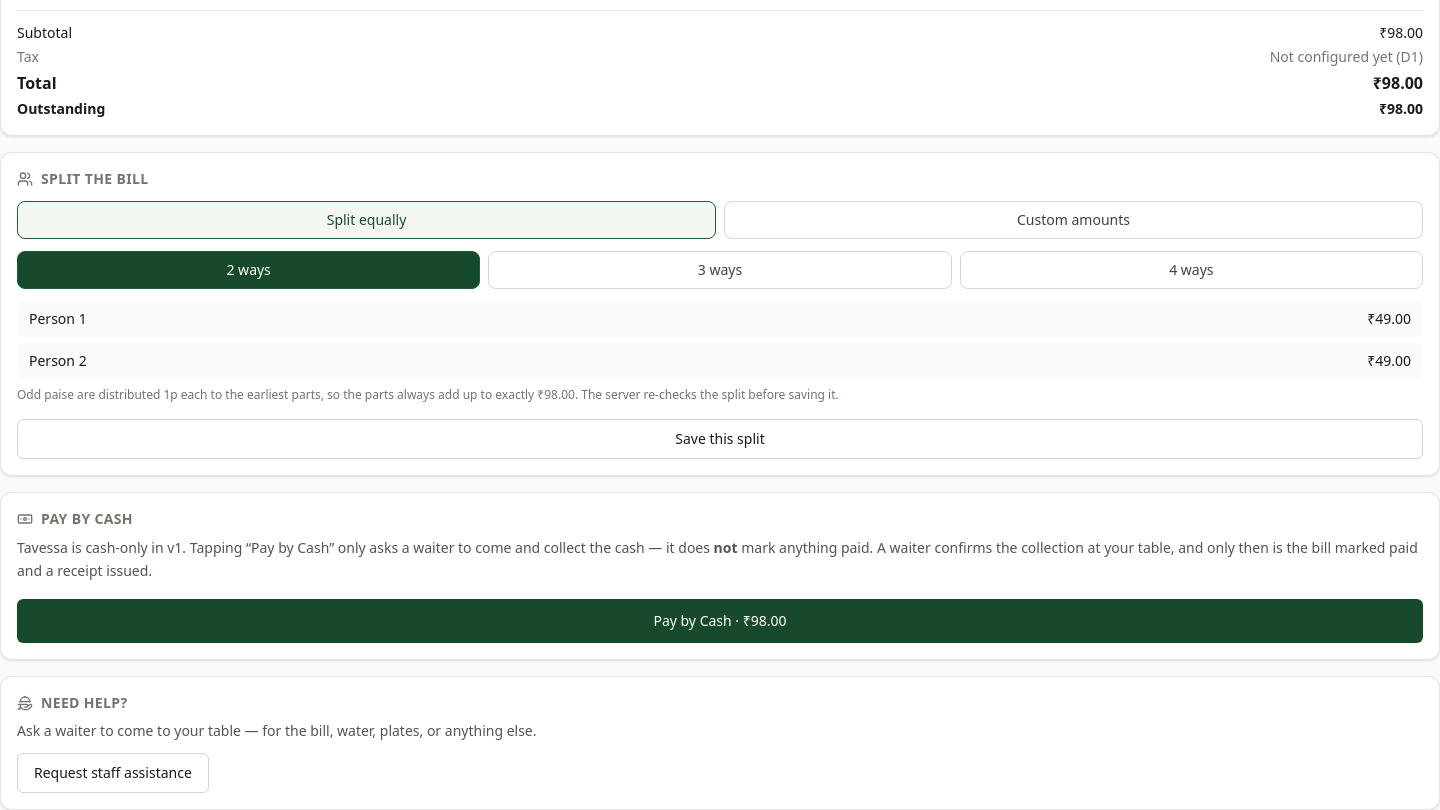
BillPage (Stage 6, live API) › Pay by Cash requests payment and does not show paid or a receipt
The image size is (1440, 810).
(page scrolled)
Click the button "Pay by Cash · ₹98.00" at (720, 620), box x1=17 y1=598 x2=1423 y2=642
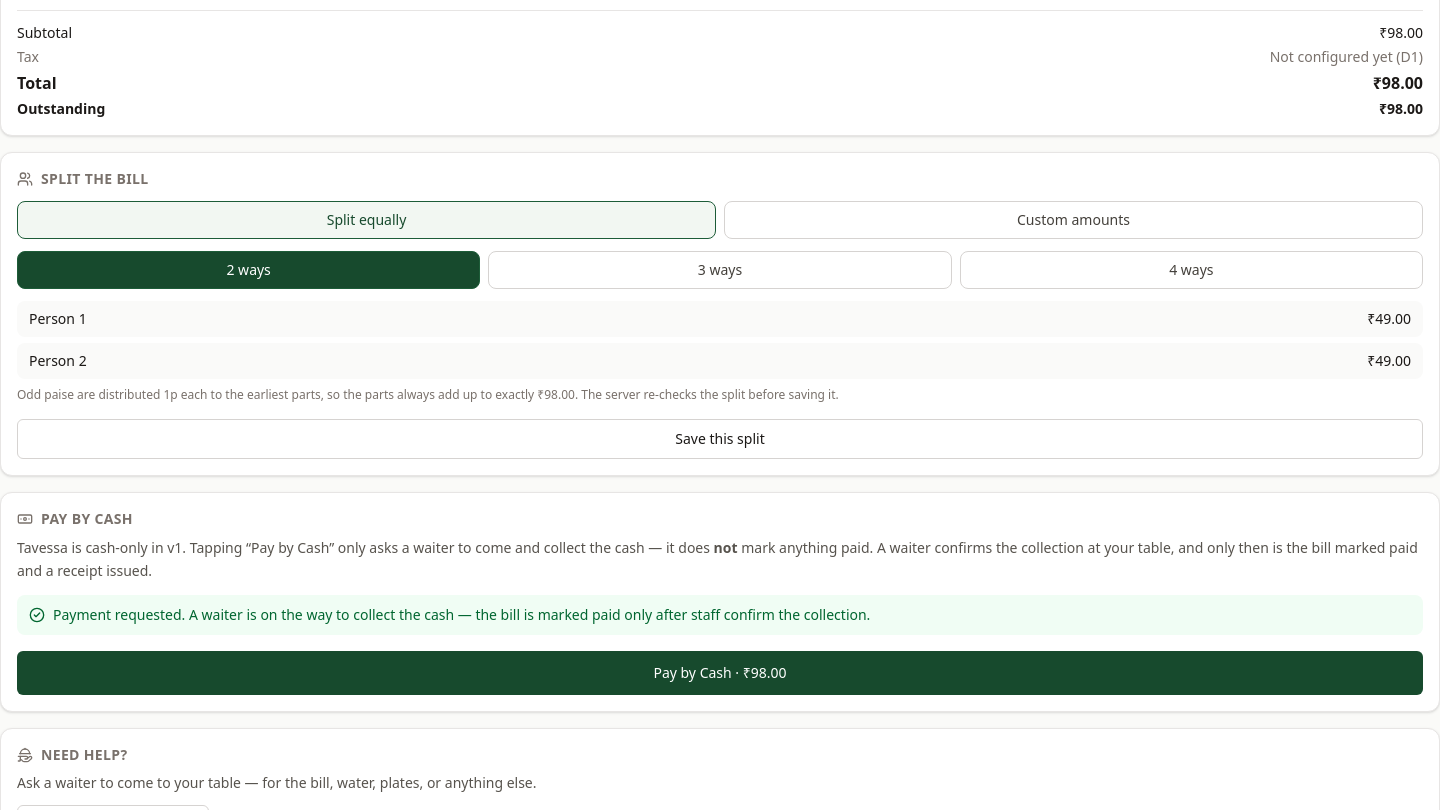
Expected: the text "A waiter is on the way" is shown, x1=53 y1=604 x2=870 y2=624
